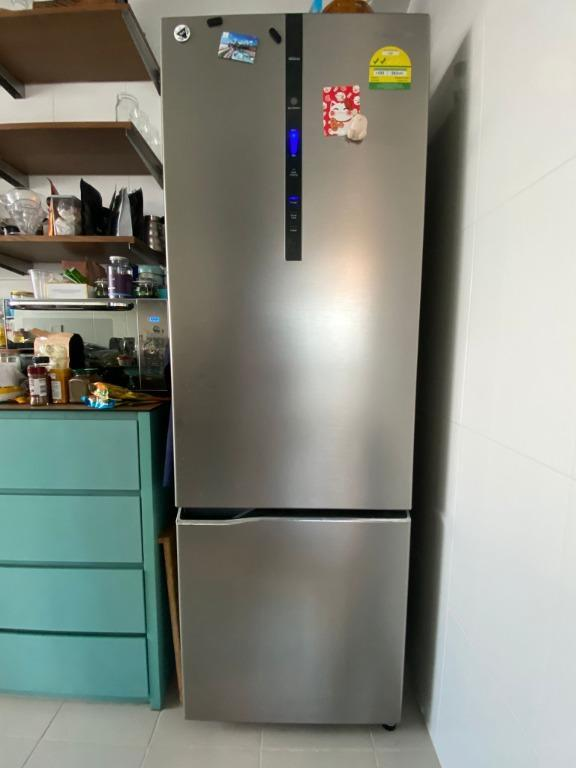Fridge: (158, 11, 427, 733)
